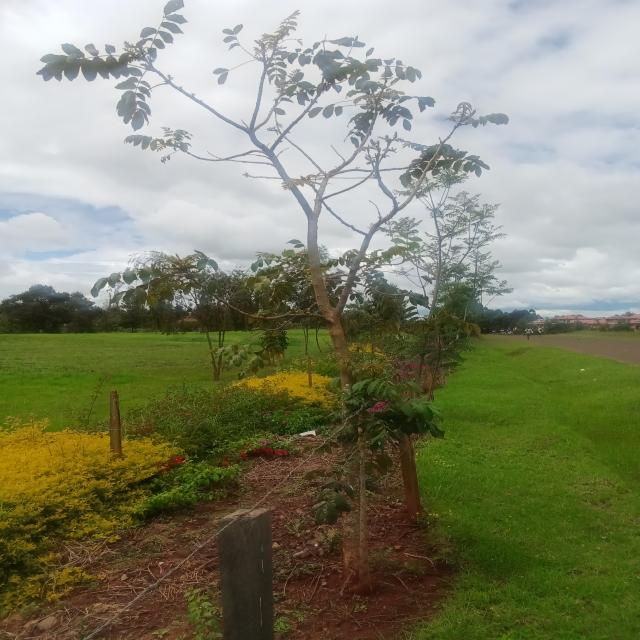Polyscias Kikuyensis: (55, 8, 593, 596)
